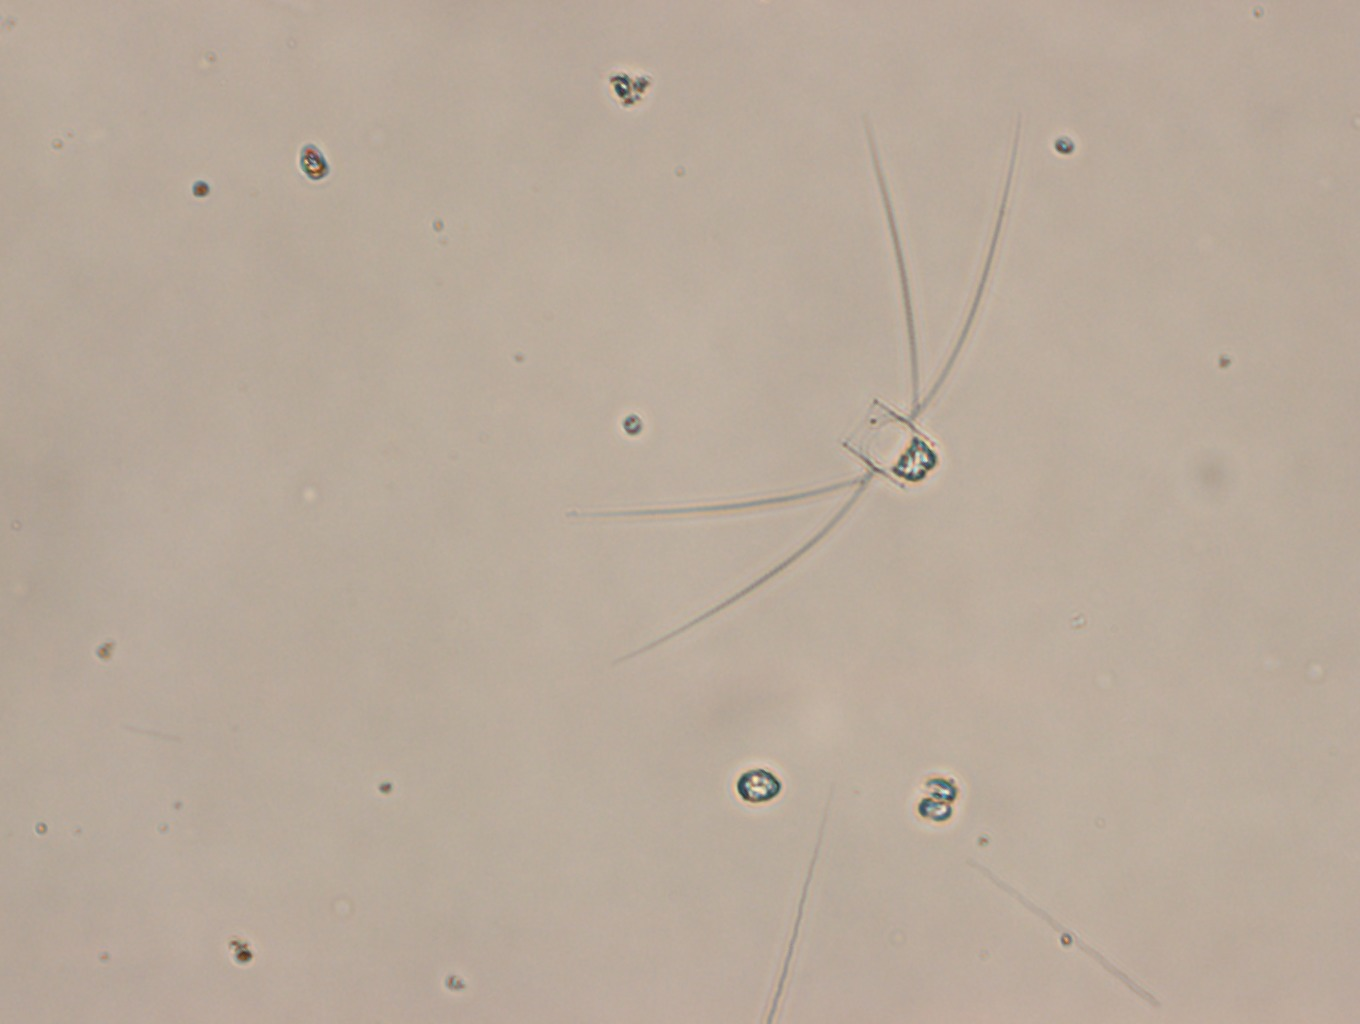chaetoceros: (569, 112, 1020, 667)
